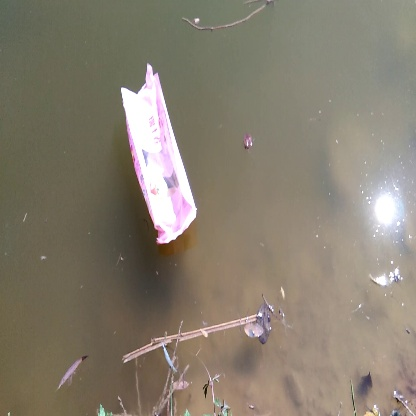plastic-bag: (118, 70, 209, 238)
